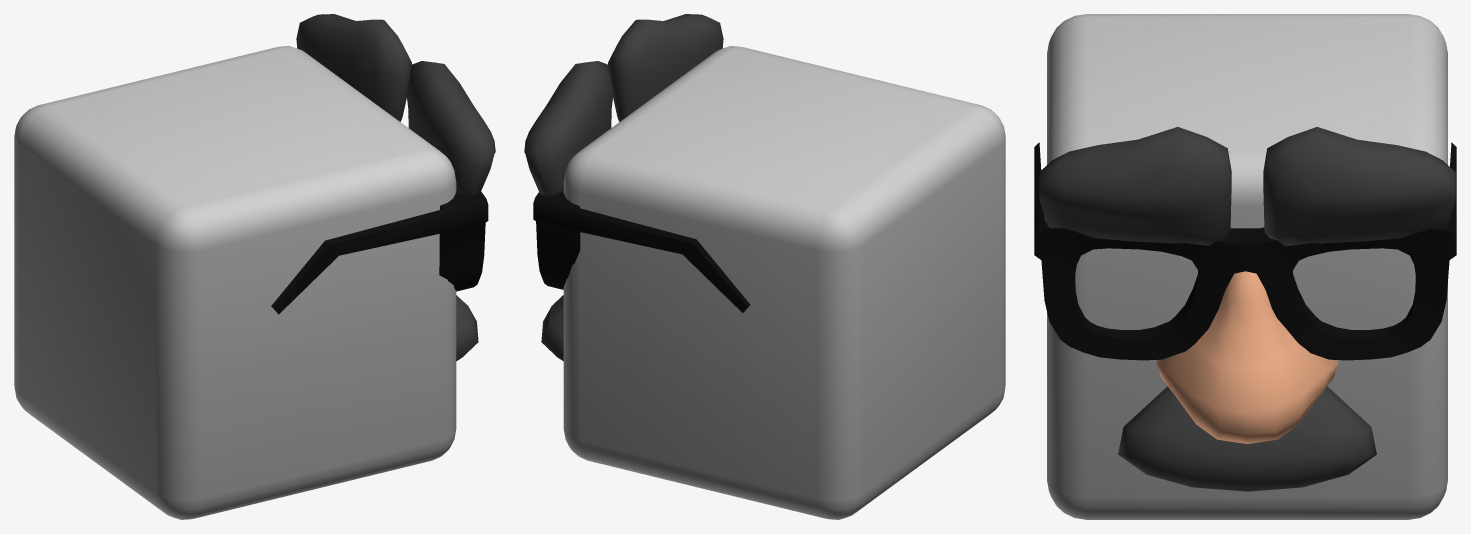
Rendered from cube_disguise.glb.
The picture shows the model from 3 angles, left to right: view 1: azimuth 30°, elevation 25°; view 2: azimuth 150°, elevation 25°; view 3: azimuth 270°, elevation 25°; orthographic projection. The views are drawn at different scales.
Parts seen in each view (by area): view 1: cube_disguise; view 2: cube_disguise; view 3: cube_disguise.
Part boxes in pixels (x1,y1,x2,y2): cube_disguise: (14, 14, 495, 519); cube_disguise: (524, 14, 1005, 519); cube_disguise: (1034, 14, 1456, 519).
Size of the model in its own units: 2.56 by 2.3 by 2.11.
4 materials, 1 textured.
